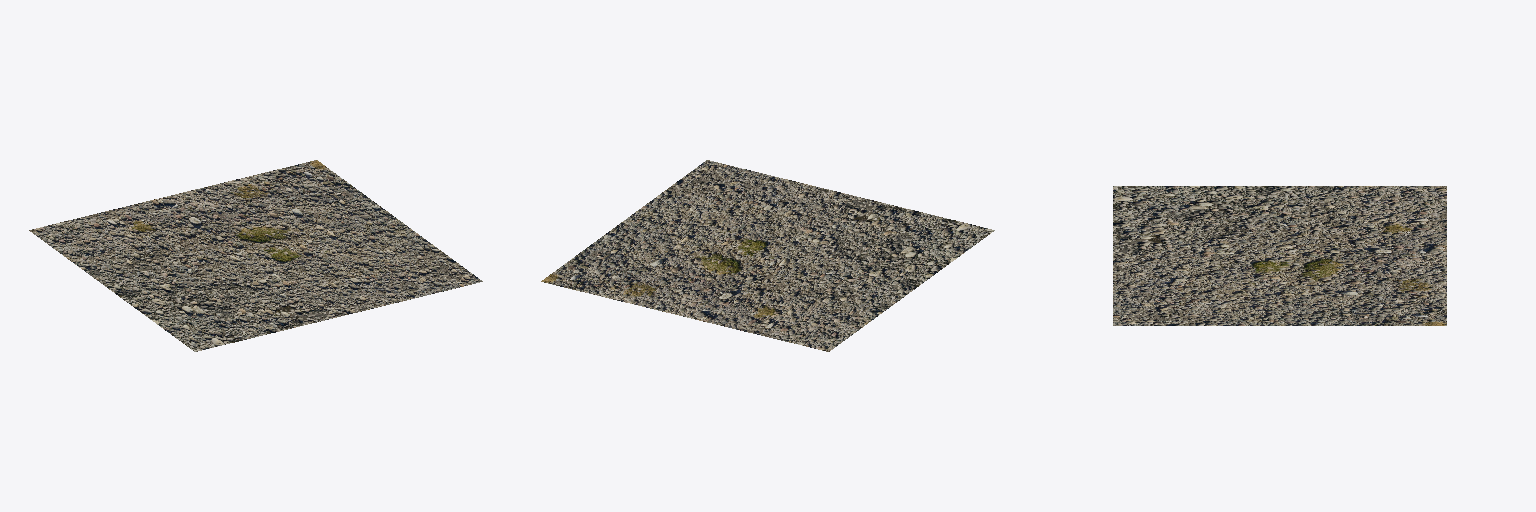
3 renders of one model, left to right at view 1: azimuth 30°, elevation 25°; view 2: azimuth 150°, elevation 25°; view 3: azimuth 270°, elevation 25°, orthographic.
Visible parts, largest first — view 1: pPlane1; view 2: pPlane1; view 3: pPlane1.
Part boxes in pixels (x1,y1,x2,y2): pPlane1: (29, 160, 482, 351); pPlane1: (541, 160, 994, 351); pPlane1: (1113, 186, 1446, 325).
Size of the model in its own units: 5000 by 0 by 5000.
1 materials, 1 textured.